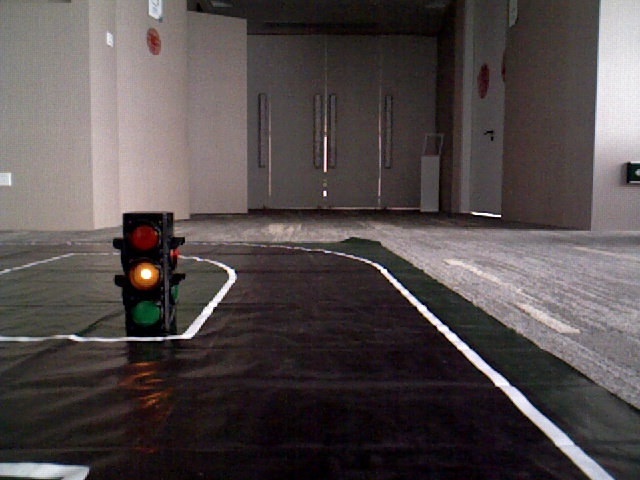yellow: (126, 220, 167, 327)
